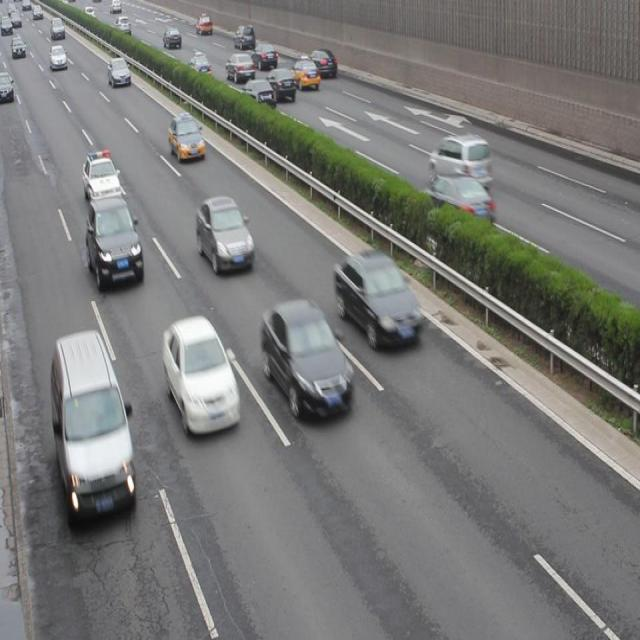car: (261, 299, 352, 418), (163, 316, 240, 437), (334, 248, 418, 351), (85, 192, 144, 290), (421, 172, 494, 236), (196, 195, 254, 273), (430, 132, 491, 187), (82, 152, 121, 205), (167, 112, 205, 164), (235, 77, 274, 116), (263, 65, 296, 104), (288, 57, 319, 91), (306, 47, 338, 79)
truck: (50, 332, 134, 519)
